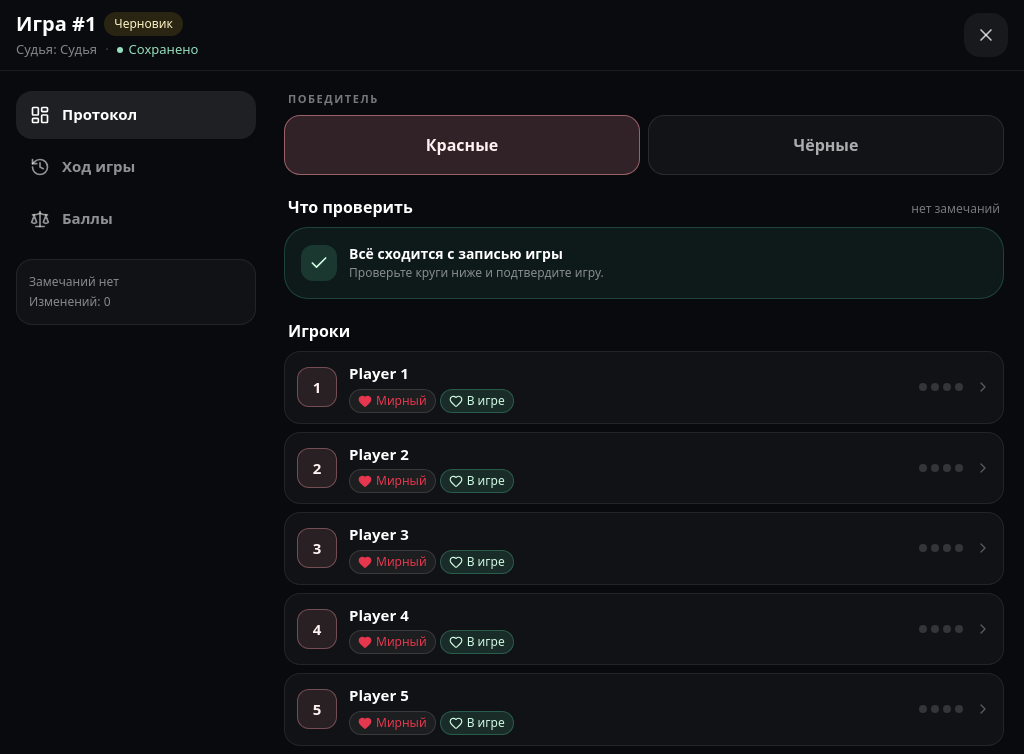
Test case: tournament protocol in the common protocol window › shows the protocol and judge bonuses with their sign
Expected: the heading "Игра #1" is shown, [16,10,96,38]
Click the button "Баллы" at (136, 218), box [16,194,256,242]
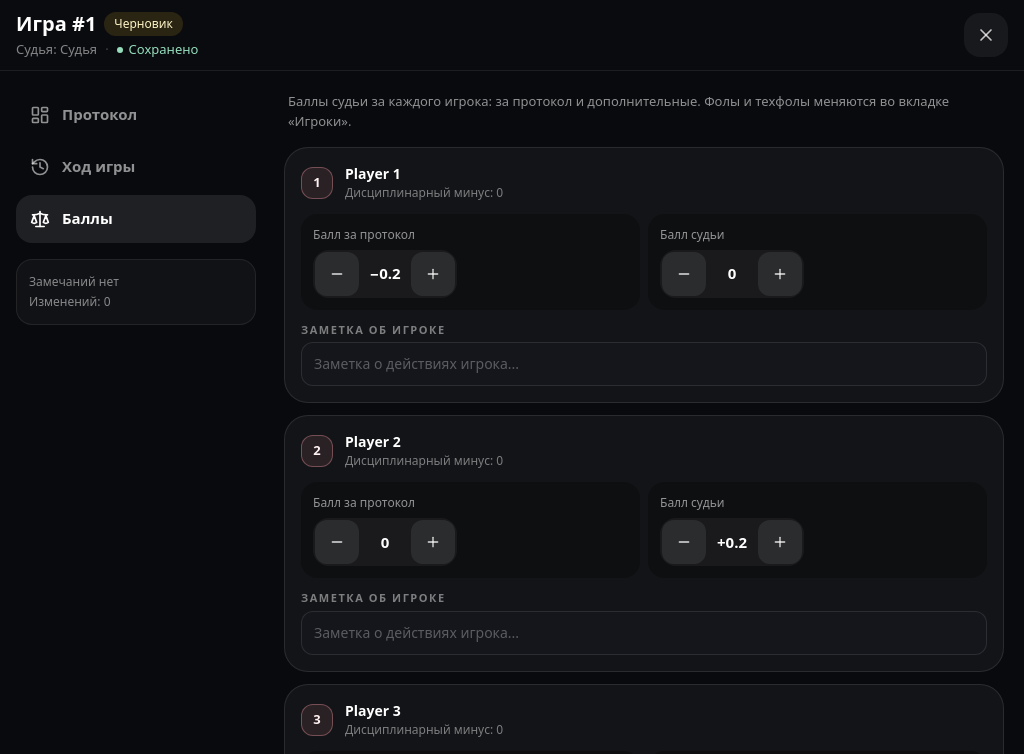
Expected: the element with test id "points-p-1" shows "−0.2", [369,263,400,283]
Expected: the element with test id "points-p-2" shows "+0.2", [717,532,747,552]
